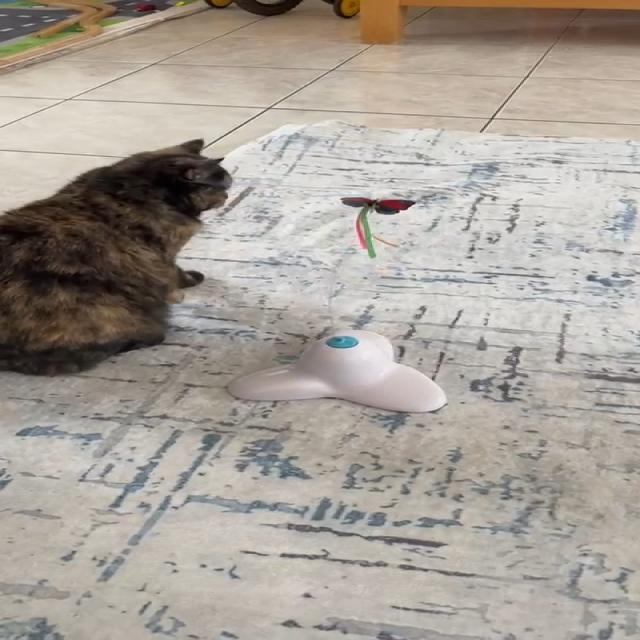authorized: (0, 137, 233, 376)
